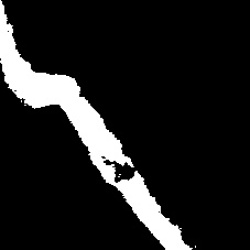crack: (0, 1, 193, 248)
